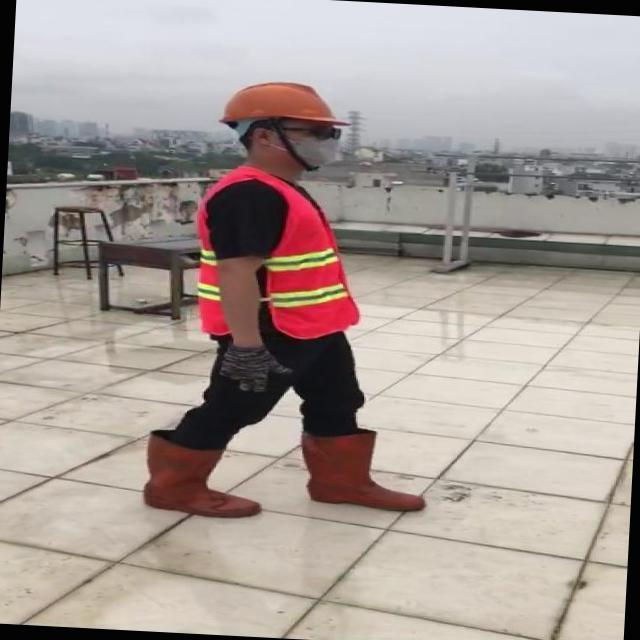boots: (301, 427, 433, 512), (140, 434, 262, 520)
gloves: (211, 326, 298, 410)
helmet: (214, 76, 340, 130)
vest: (192, 167, 366, 345)
